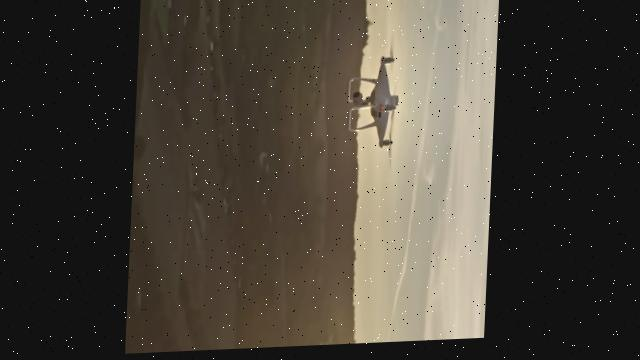drone: (344, 39, 403, 174)
